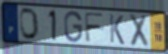1: (47, 9, 58, 43)
F: (83, 11, 106, 44)
G: (64, 10, 84, 44)
K: (108, 12, 126, 46)
O: (19, 7, 40, 42)
X: (128, 13, 150, 49)
